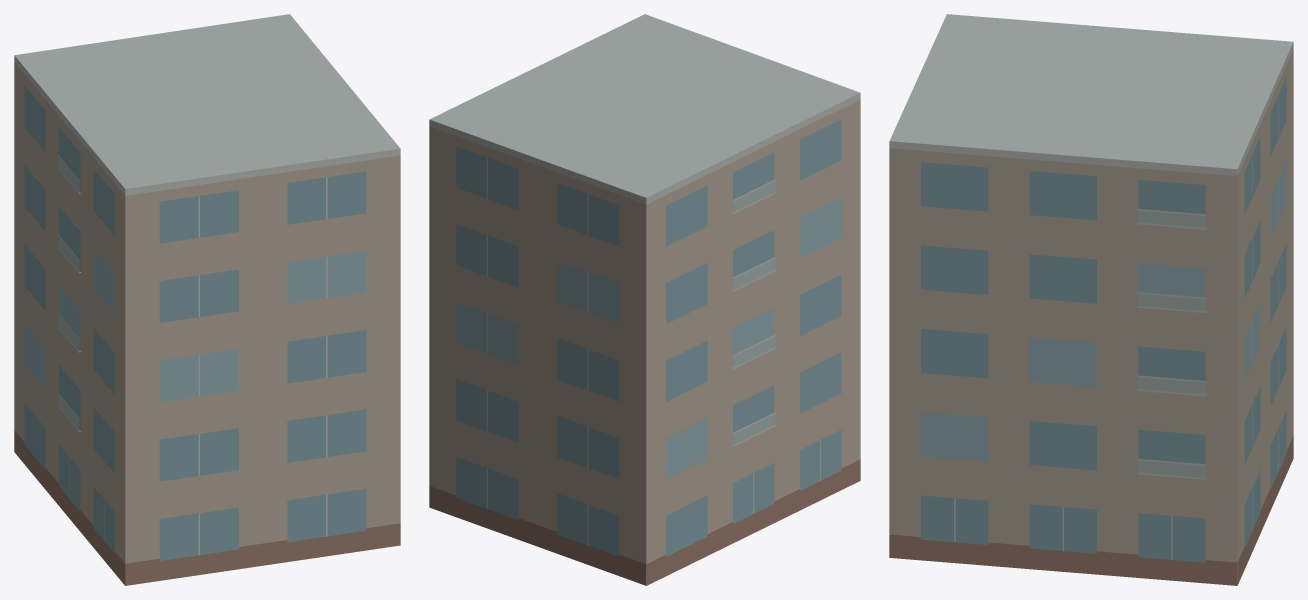
File: survey-upis-32971355.glb
3 views of the same model, side by side, from view 1: azimuth 30°, elevation 25°; view 2: azimuth 150°, elevation 25°; view 3: azimuth 270°, elevation 25° (orthographic). The views are drawn at different scales.
Parts seen in each view (by area): view 1: survey-upis-32971355.tmp; view 2: survey-upis-32971355.tmp; view 3: survey-upis-32971355.tmp.
Boxes of the visible parts, x1,y1,x2,y2 form: survey-upis-32971355.tmp: (14,14,400,585); survey-upis-32971355.tmp: (429,14,860,585); survey-upis-32971355.tmp: (889,14,1293,585).
Size of the model in its own units: 11.47 by 14.35 by 12.62.
